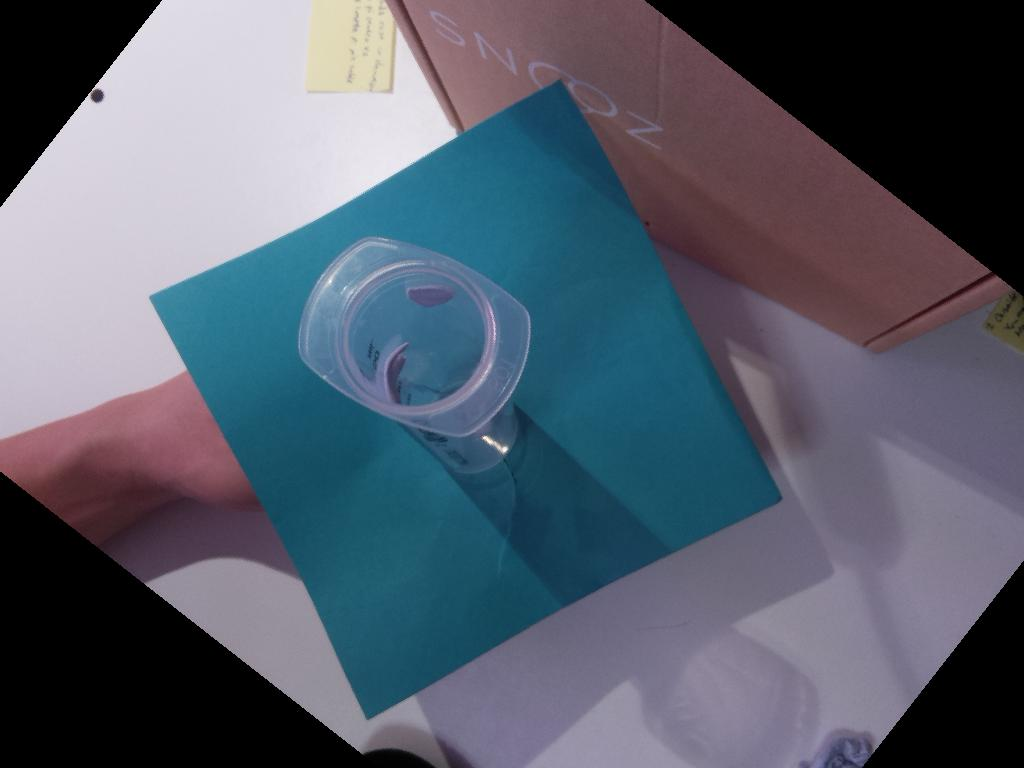dirty: (299, 236, 532, 438)
